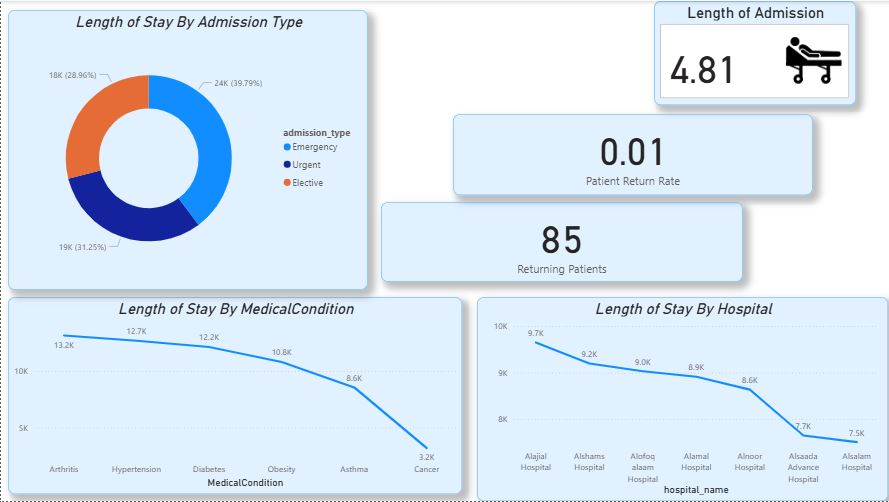

This screenshot's page, from the dashboard's own definition file:
{"tool":"powerbi","page":{"name":"Admission","canvas":[1280,720],"ordinal":1},"visuals":[{"type":"lineChart","title":"Length of Stay By Hospital","fields":{"Y":["Sum(HealthCare_Claims clear(Sheet1).Length_of_Stay)"],"Category":["HealthCare_Claims clear(Sheet1).hospital_name"]},"box":[685.4,426.2,591.8,293.8],"z":0},{"type":"lineChart","title":"Length of Stay By MedicalCondition","fields":{"Y":["Sum(HealthCare_Claims clear(Sheet1).Length_of_Stay)"],"Category":["HealthCare_Claims clear(Sheet1).MedicalCondition"]},"box":[10.1,426.2,653.8,283.7],"z":1000},{"type":"cardVisual","title":"Length of Admission","fields":{"Data":["HealthCare_Claims clear(Sheet1).Average_length_stay_patient"]},"box":[940.3,0,290.9,149.8],"z":2000},{"type":"card","fields":{"Values":["HealthCare_Claims clear(Sheet1).Patient Return Rate"]},"box":[650.9,162.7,518.4,116.6],"z":3000},{"type":"card","fields":{"Values":["HealthCare_Claims clear(Sheet1).Returning Patients"]},"box":[547.2,289.4,521.3,115.2],"z":4000},{"type":"donutChart","title":"Length of Stay By Admission Type","fields":{"Category":["HealthCare_Claims clear(Sheet1).admission_type"],"Y":["Sum(HealthCare_Claims clear(Sheet1).Length_of_Stay)"]},"box":[10.1,13,518.4,403.2],"z":5000}]}

Visuals, with their boxes in screenshot pixels (x1, y1, x2, y2), scaled from the page's 1280x720 canvas onto the 889x502 screenshot:
"Length of Stay By Hospital" lineChart: detection(476, 297, 887, 501)
"Length of Stay By MedicalCondition" lineChart: detection(7, 297, 461, 495)
"Length of Admission" cardVisual: detection(653, 0, 855, 104)
card - HealthCare_Claims clear(Sheet1).Patient Return Rate: detection(452, 113, 812, 195)
card - HealthCare_Claims clear(Sheet1).Returning Patients: detection(380, 202, 742, 282)
"Length of Stay By Admission Type" donutChart: detection(7, 9, 367, 290)
